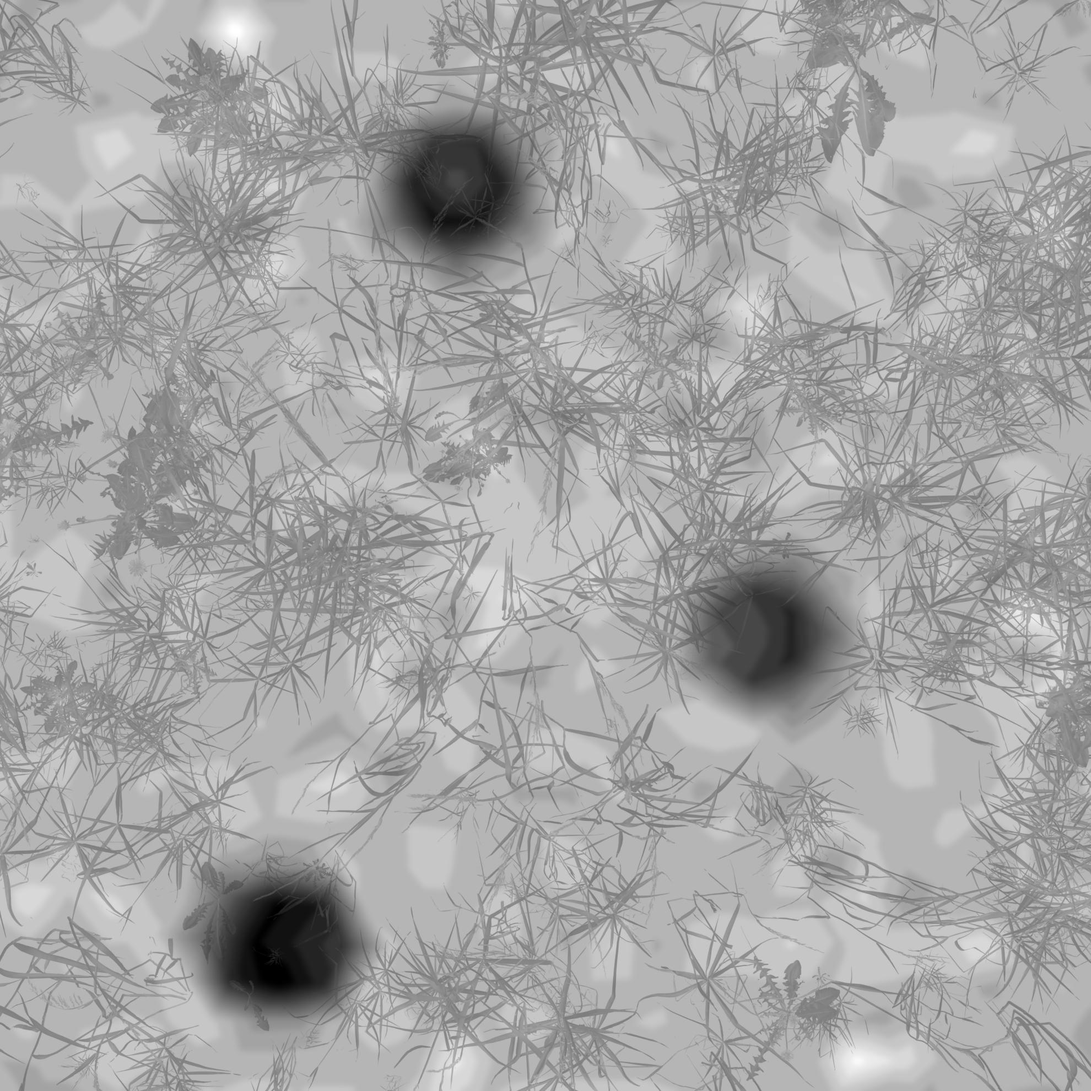landmine: (195, 853, 361, 1016), (373, 118, 535, 260), (697, 560, 830, 696)
